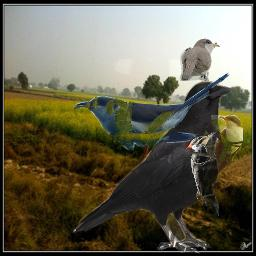Crow: (73, 78, 234, 254)
Cuckoo: (74, 71, 234, 151), (196, 115, 243, 202), (180, 38, 220, 81)
Woodpecker: (185, 132, 219, 218)
